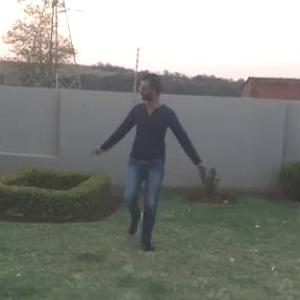land: (73, 64, 226, 277)
